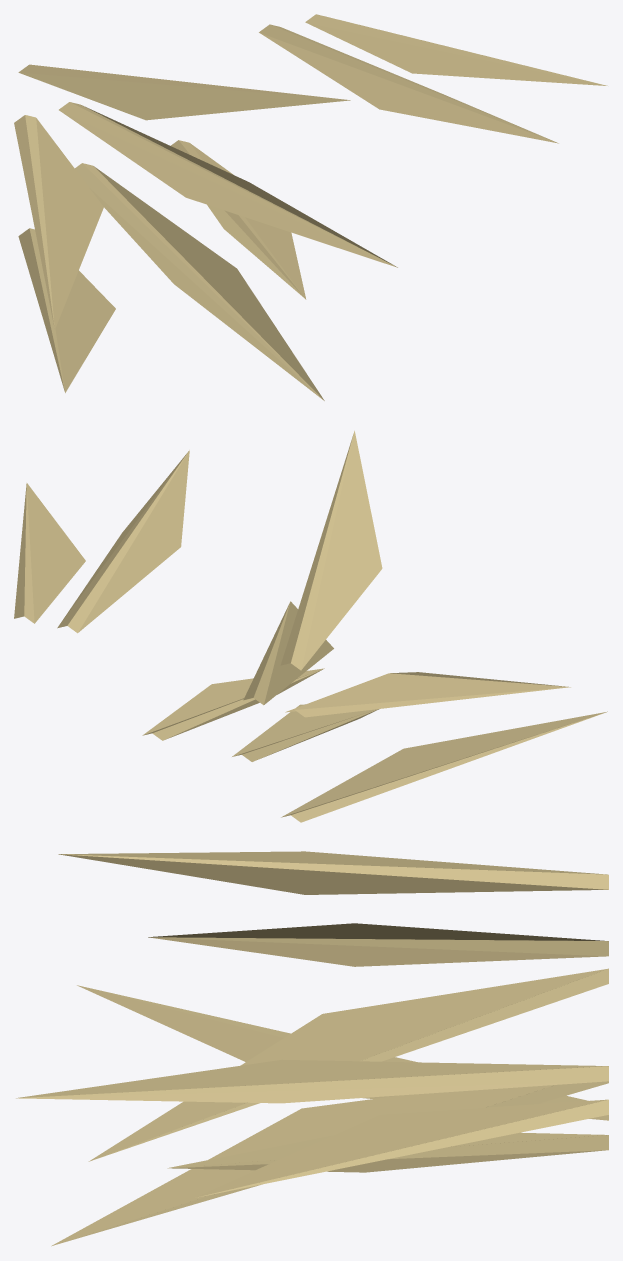
Rendered from dry_grass_small.glb.
3 renders of one model, top to bottom at view 1: azimuth 30°, elevation 25°; view 2: azimuth 150°, elevation 25°; view 3: azimuth 270°, elevation 25°, orthographic. The views are drawn at different scales.
Visible parts, largest first — view 1: dry_grass_small_002, dry_grass_small_000, dry_grass_small_007, dry_grass_small_003, dry_grass_small_006, dry_grass_small_004, dry_grass_small_001, dry_grass_small_005; view 2: dry_grass_small_003, dry_grass_small_006, dry_grass_small_001, dry_grass_small_007, dry_grass_small_004, dry_grass_small_005, dry_grass_small_000, dry_grass_small_002; view 3: dry_grass_small_006, dry_grass_small_000, dry_grass_small_003, dry_grass_small_007, dry_grass_small_004, dry_grass_small_002, dry_grass_small_005, dry_grass_small_001.
Part boxes in pixels (<box>): dry_grass_small_002: <box>75,163,324,400</box>; dry_grass_small_000: <box>59,102,397,267</box>; dry_grass_small_007: <box>14,115,103,329</box>; dry_grass_small_003: <box>18,64,350,120</box>; dry_grass_small_006: <box>259,24,558,143</box>; dry_grass_small_004: <box>305,14,607,85</box>; dry_grass_small_001: <box>18,228,115,392</box>; dry_grass_small_005: <box>171,140,306,299</box>; dry_grass_small_003: <box>280,431,382,670</box>; dry_grass_small_006: <box>57,450,189,633</box>; dry_grass_small_001: <box>281,711,607,822</box>; dry_grass_small_007: <box>285,672,570,717</box>; dry_grass_small_004: <box>14,483,85,623</box>; dry_grass_small_005: <box>142,668,324,740</box>; dry_grass_small_000: <box>243,601,333,705</box>; dry_grass_small_002: <box>232,704,379,761</box>; dry_grass_small_006: <box>16,1059,608,1103</box>; dry_grass_small_000: <box>88,968,608,1161</box>; dry_grass_small_003: <box>58,851,608,894</box>; dry_grass_small_007: <box>148,923,608,966</box>; dry_grass_small_004: <box>193,1099,608,1198</box>; dry_grass_small_002: <box>51,1081,608,1246</box>; dry_grass_small_005: <box>167,1132,608,1172</box>; dry_grass_small_001: <box>77,985,608,1120</box>.
Bounding box in the file's own units: 1.02 × 0.4851 × 0.6343.
